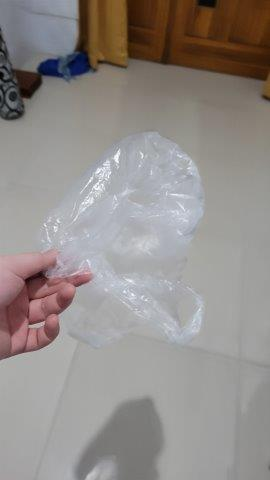plastik: (28, 132, 206, 353)
